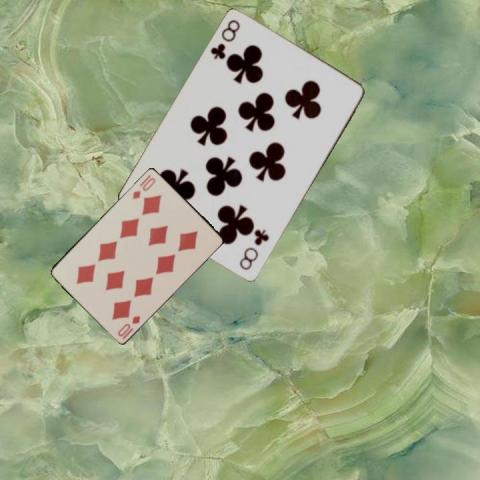10d: (115, 312, 142, 340), (129, 174, 157, 200)
8c: (236, 226, 271, 272), (207, 17, 242, 62)
